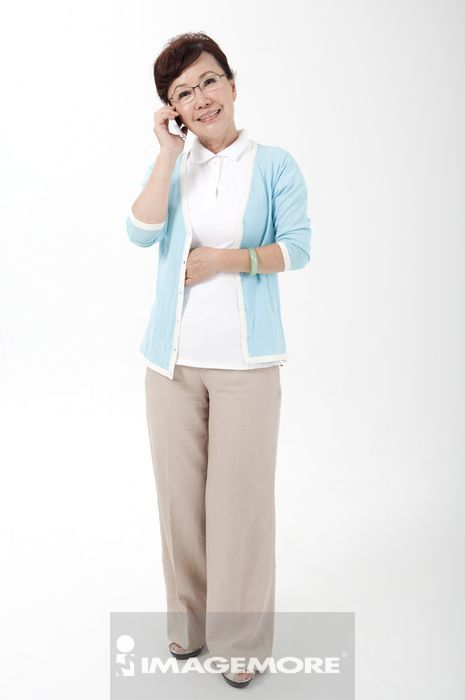talk: (151, 67, 230, 165)
